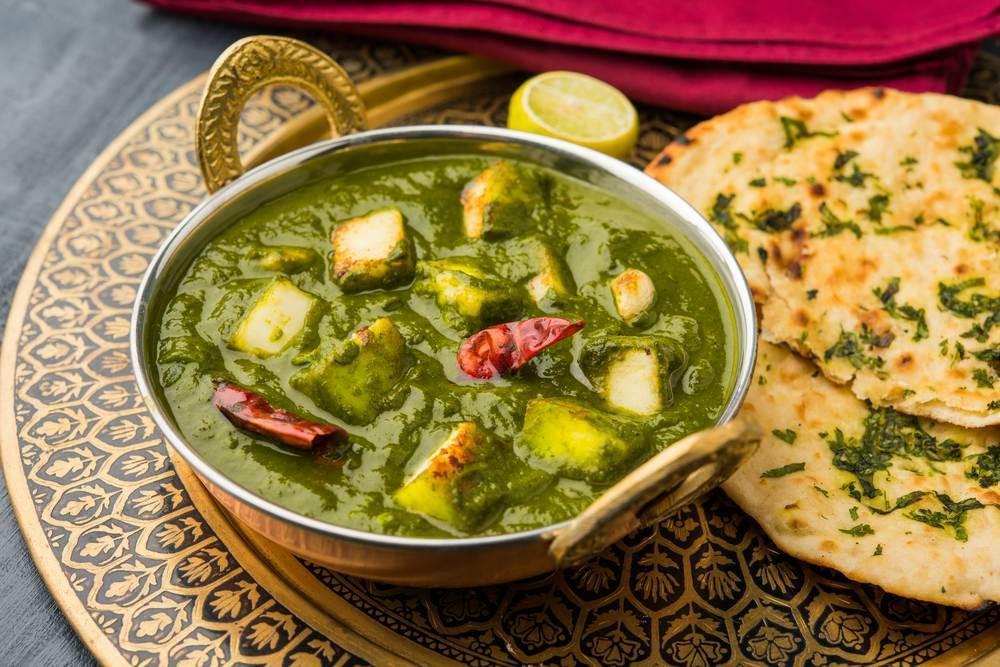PalakPaneer: (159, 150, 724, 540)
